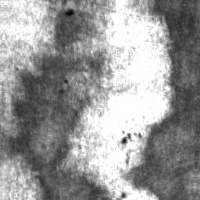patches: (6, 45, 106, 188), (130, 3, 200, 200), (34, 160, 125, 200), (50, 5, 100, 56)
